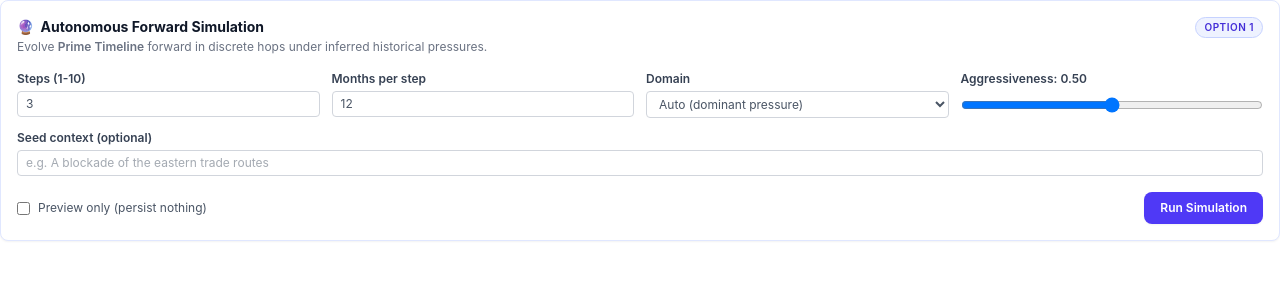
Test: SimulationLauncherPanel › surfaces an engine failure instead of leaving the spinner running
Click the button "Run Simulation" at x=1204, y=208, box [1144,192,1263,224]
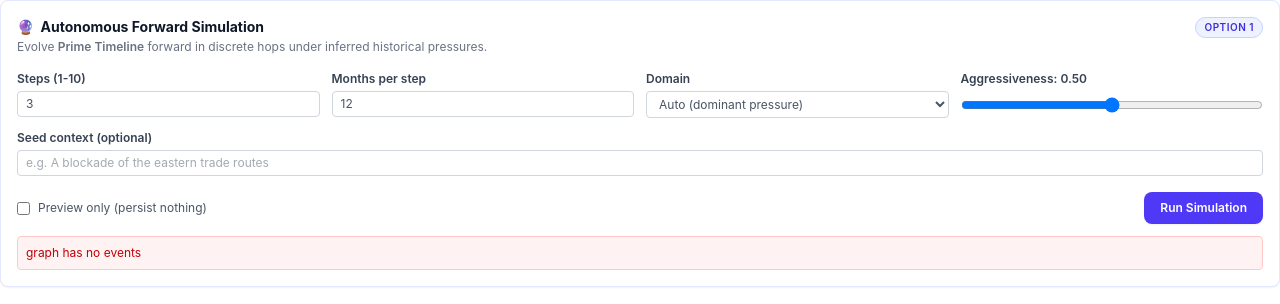
Expected: the message reads "graph has no events", [26,245,141,260]
